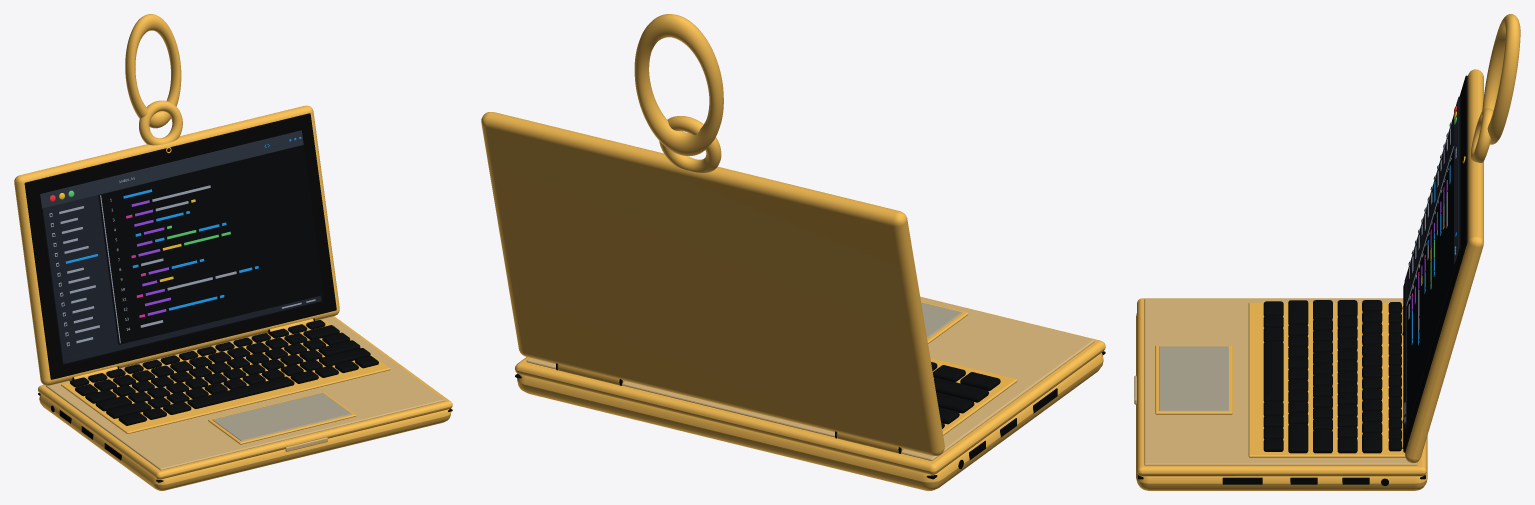
File: 09_laptop.glb
The picture shows the model from 3 angles, left to right: view 1: azimuth 30°, elevation 25°; view 2: azimuth 150°, elevation 25°; view 3: azimuth 270°, elevation 25°; orthographic projection. The views are drawn at different scales.
Parts seen in each view (by area): view 1: Laptop | deep glass screen panel, Laptop | black inset display bezel, Laptop | inset brushed aluminium palm rest, Laptop | IDE explorer sidebar, Laptop | solid gold rear display casing, Laptop | lower gold unibody shell, Laptop | gold upper deck, Laptop | keyboard recessed tray, Laptop | IDE top navigation, Laptop | recessed large touchpad, Laptop | oval gold jump ring, Laptop | IDE bottom status line (+4 smaller); view 2: Laptop | solid gold rear display casing, Laptop | inset brushed aluminium palm rest, Laptop | lower gold unibody shell, Laptop | gold upper deck, Laptop | oval gold jump ring, Laptop | top soldered gold eye, Laptop | keyboard recessed tray, Laptop | recessed large touchpad, Laptop | shift key 00; view 3: Laptop | inset brushed aluminium palm rest, Laptop | keyboard recessed tray, Laptop | solid gold rear display casing, Laptop | deep glass screen panel, Laptop | gold upper deck, Laptop | recessed large touchpad, Laptop | lower gold unibody shell, Laptop | oval gold jump ring, Laptop | black inset display bezel, Laptop | IDE explorer sidebar, Laptop | bottom key 03, Laptop | touchpad polished outline (+7 smaller).
Boxes of the visible parts, <box> form: Laptop | deep glass screen panel: <box>39,145,324,366</box>; Laptop | black inset display bezel: <box>24,113,336,379</box>; Laptop | inset brushed aluminium palm rest: <box>46,316,445,470</box>; Laptop | IDE explorer sidebar: <box>42,195,118,363</box>; Laptop | solid gold rear display casing: <box>14,105,339,385</box>; Laptop | lower gold unibody shell: <box>39,394,451,490</box>; Laptop | gold upper deck: <box>38,316,452,479</box>; Laptop | keyboard recessed tray: <box>61,320,390,433</box>; Laptop | IDE top navigation: <box>40,130,303,208</box>; Laptop | recessed large touchpad: <box>212,392,351,441</box>; Laptop | oval gold jump ring: <box>125,14,181,128</box>; Laptop | IDE bottom status line: <box>65,295,321,363</box>; Laptop | solid gold rear display casing: <box>481,112,944,455</box>; Laptop | inset brushed aluminium palm rest: <box>526,297,1094,460</box>; Laptop | lower gold unibody shell: <box>517,353,1103,490</box>; Laptop | gold upper deck: <box>515,296,1105,474</box>; Laptop | oval gold jump ring: <box>634,14,723,156</box>; Laptop | top soldered gold eye: <box>659,116,721,172</box>; Laptop | keyboard recessed tray: <box>930,358,1017,435</box>; Laptop | recessed large touchpad: <box>921,302,961,338</box>; Laptop | shift key 00: <box>934,377,988,402</box>; Laptop | inset brushed aluminium palm rest: <box>1144,298,1417,465</box>; Laptop | keyboard recessed tray: <box>1248,302,1405,457</box>; Laptop | solid gold rear display casing: <box>1405,69,1483,463</box>; Laptop | deep glass screen panel: <box>1405,97,1460,433</box>; Laptop | gold upper deck: <box>1137,298,1426,476</box>; Laptop | recessed large touchpad: <box>1159,346,1228,410</box>; Laptop | lower gold unibody shell: <box>1136,313,1427,490</box>; Laptop | oval gold jump ring: <box>1481,14,1520,144</box>; Laptop | black inset display bezel: <box>1403,75,1467,452</box>; Laptop | IDE explorer sidebar: <box>1406,114,1453,306</box>; Laptop | bottom key 03: <box>1263,341,1283,401</box>; Laptop | touchpad polished outline: <box>1155,345,1232,414</box>.
Size of the model in its own units: 0.057 by 0.06 by 0.0535.
